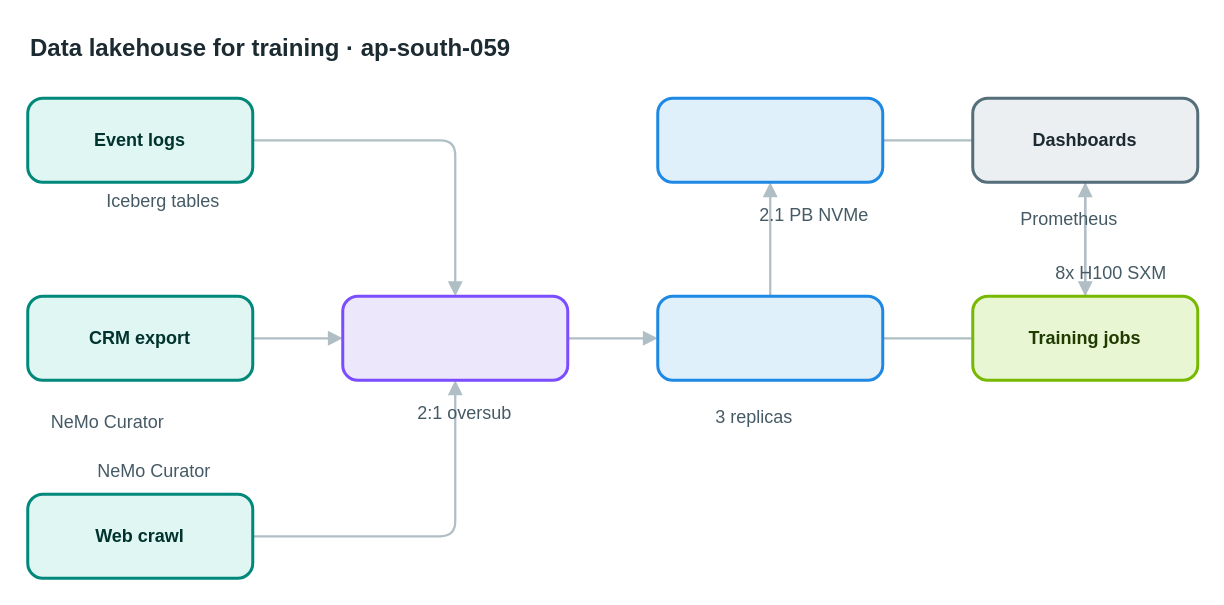
This 1224x605 diagram has some shape labels left out. The centre of each missing label's shape, as x and y in pixels:
"Feature store" belongs at point (770, 139).
"Lakehouse" belongs at point (770, 337).
"Stream bus" belongs at point (454, 337).
